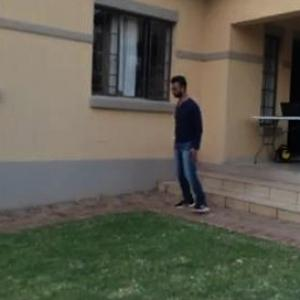follow: (162, 74, 201, 208)
